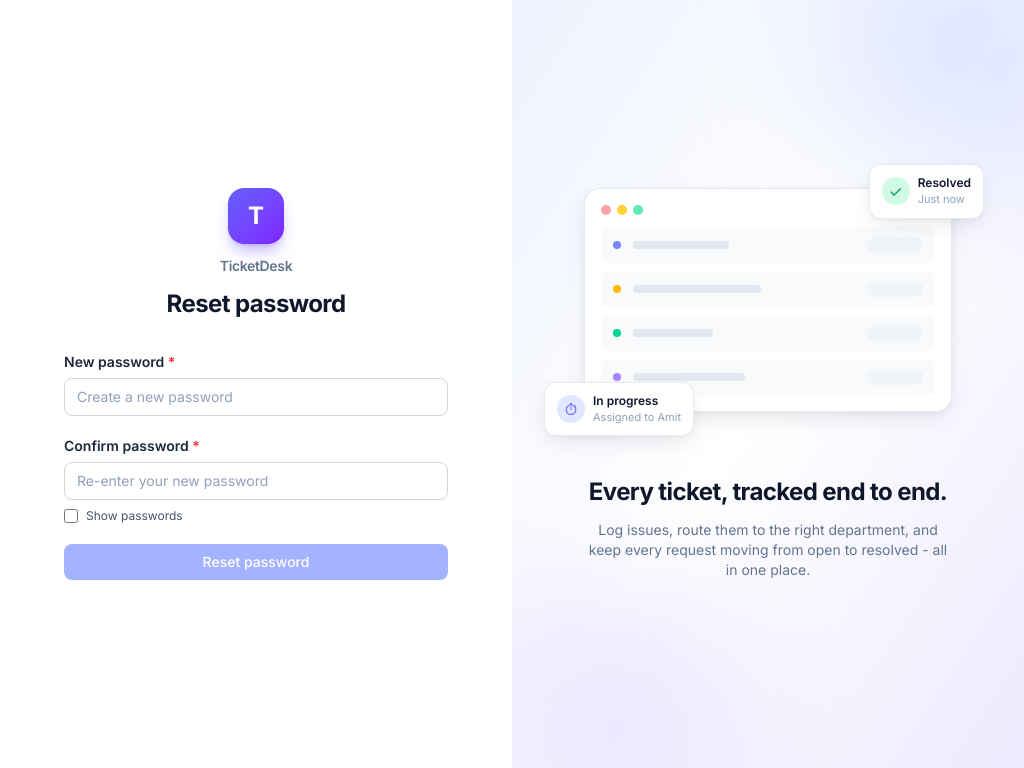
Scenario: ResetPasswordPage › shows an error state with a link to request a new link when the reset fails
Type "NewPass2@" into the password field labelled "New password *" at (256, 397), box [64,378,448,416]
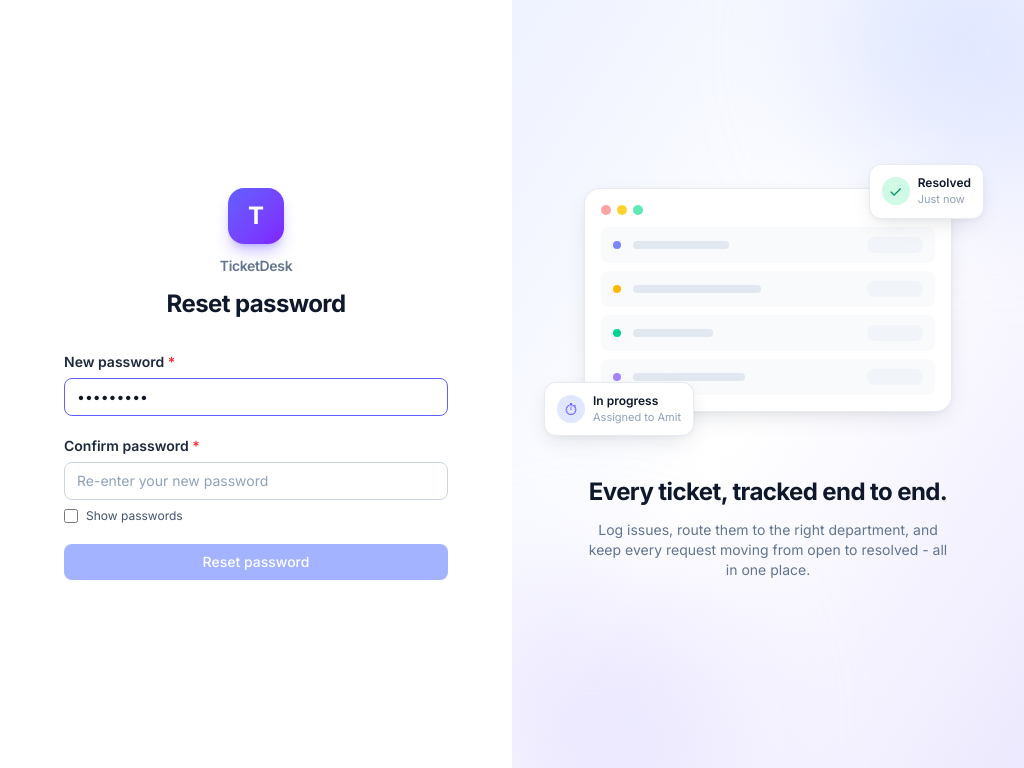
Type "NewPass2@" into the password field labelled "Confirm password *" at (256, 481), box [64,462,448,500]
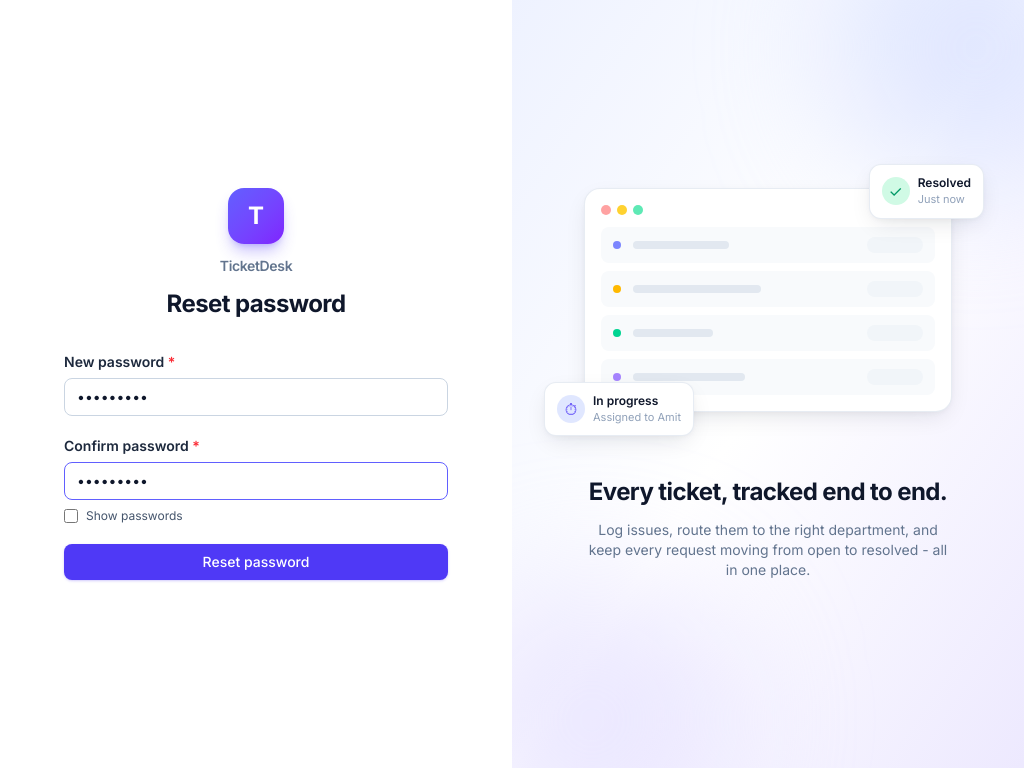
Click the button "Reset password" at (256, 562), box [64,544,448,580]
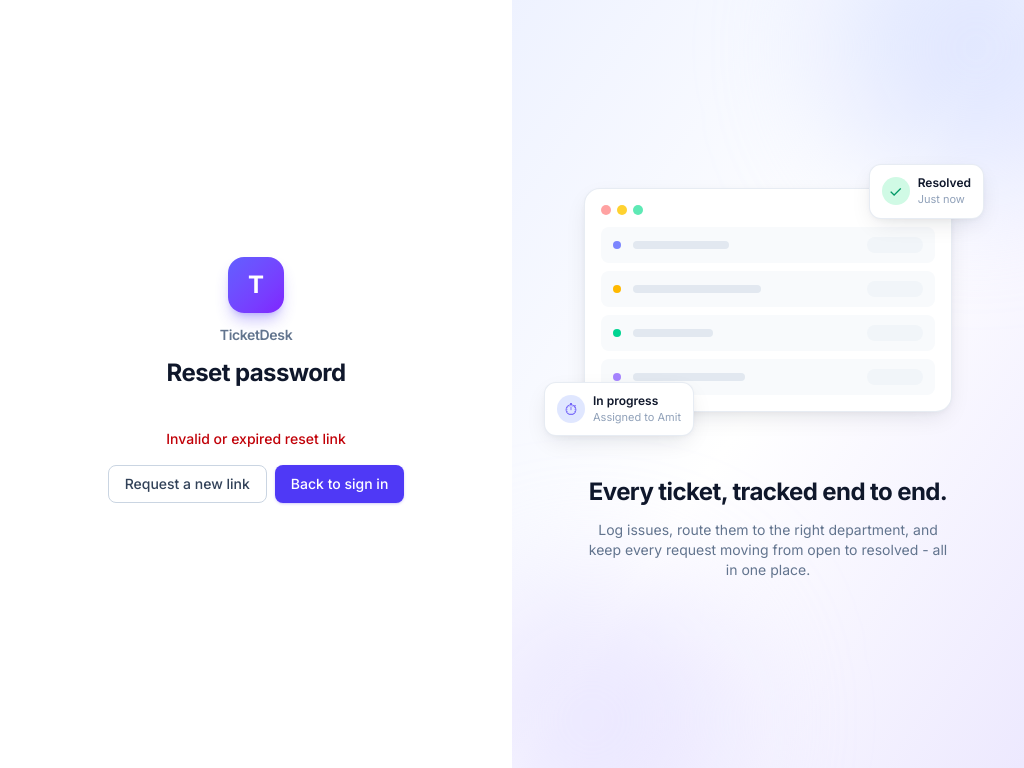
Check: the text "Invalid or expired reset link" is shown, box [166,429,346,449]
Check: the link "Request a new link" is shown, box [108,465,267,503]
